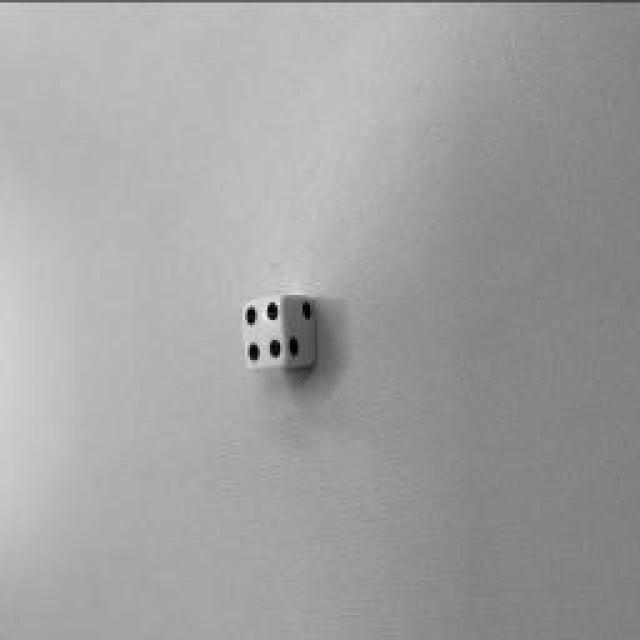dice_4: (243, 295, 285, 367)
